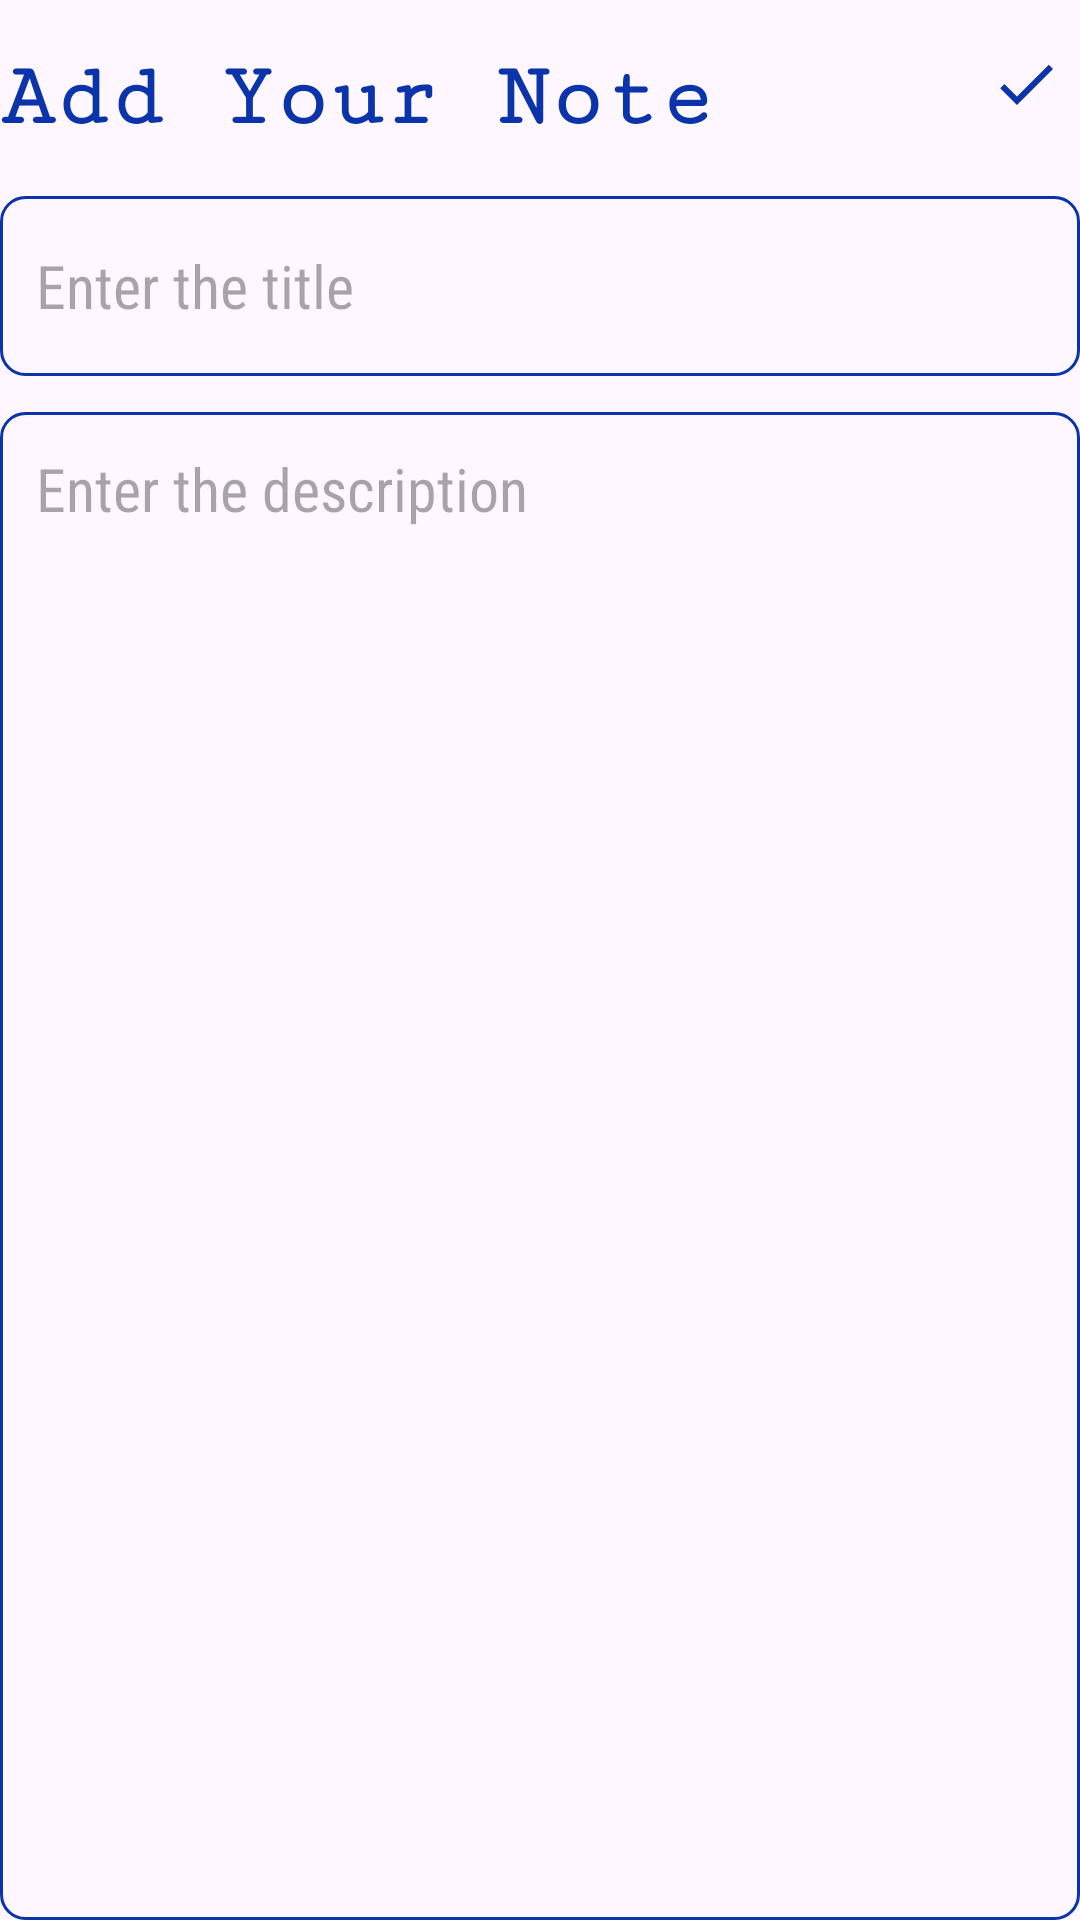

Screen size 1080x1920. Icon name, then its center in pixels as point (x, y):
done: point (1026, 85)
